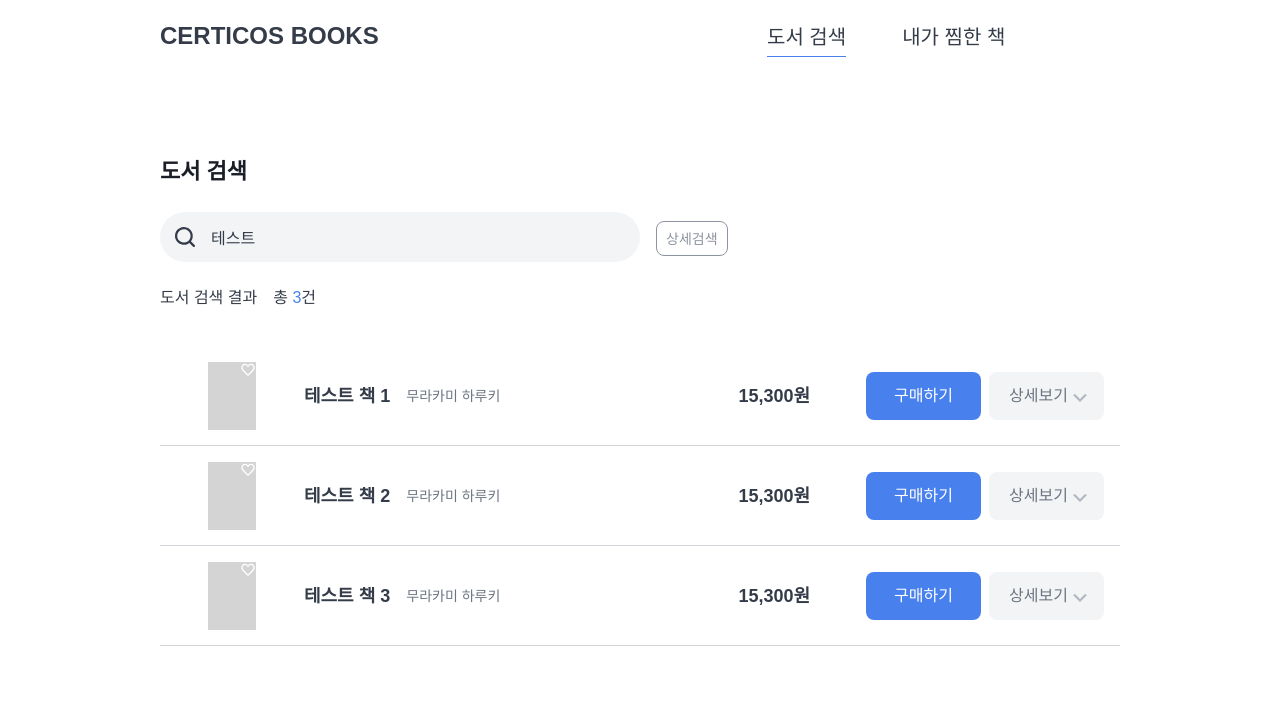
Scenario: 찜하기 › 찜한 책은 내가 찜한 책 페이지에 찜한 건수와 함께 나온다
What coordinates should you click on to do the following:
click the button named "테스트 책 2 찜하기"
I would click on:
 (248, 470)
Its box is [236,458,260,482].
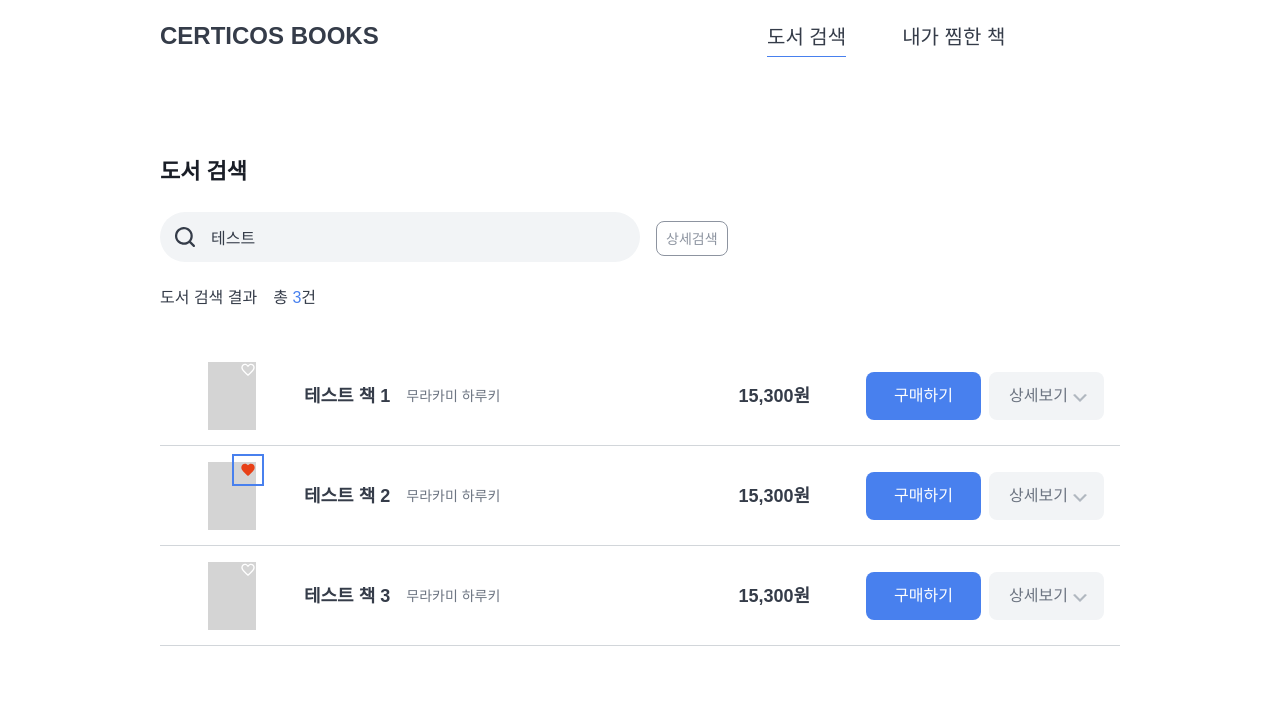
What coordinates should you click on to do the following:
click the link "내가 찜한 책"
I would click on:
 (954, 42)
Its box is [902,27,1005,57].
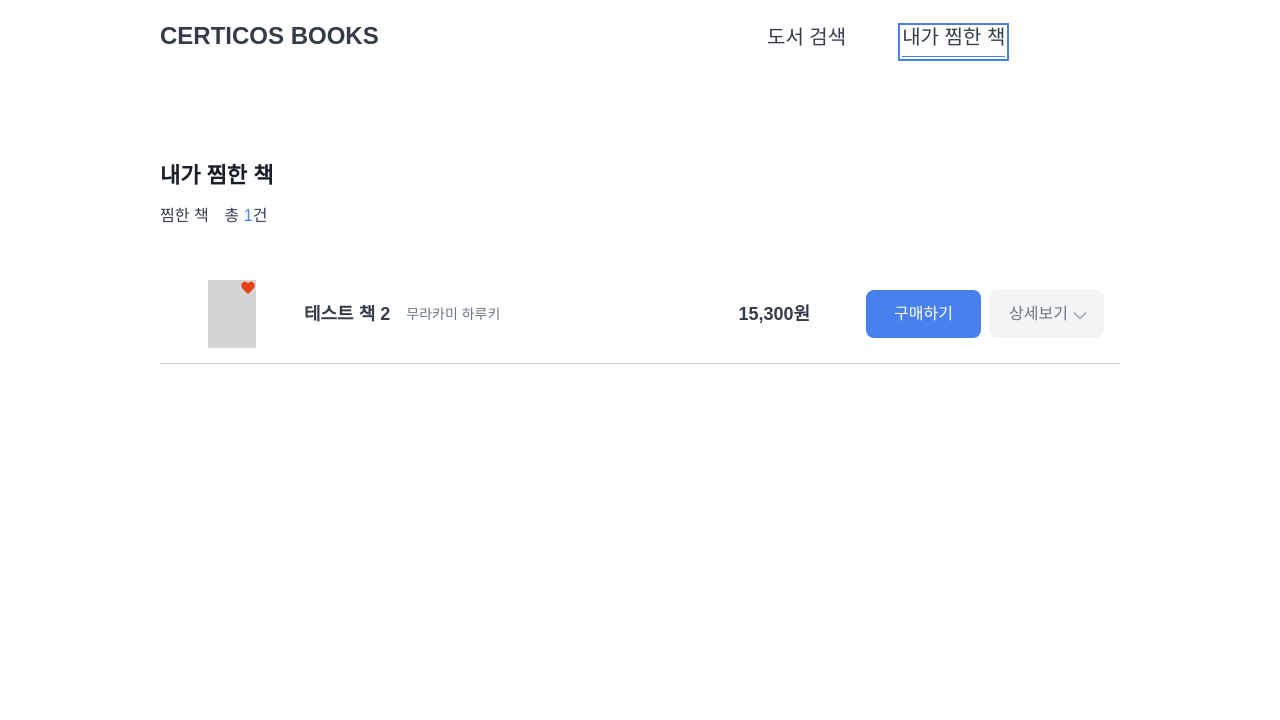
Expected: the heading "테스트 책 2" is shown, [304,305,390,323]
Expected: the message reads "찜한 책 총 1건", [160,207,267,224]
